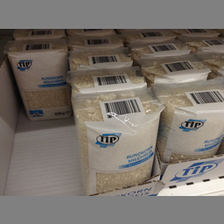rice: (72, 87, 161, 195), (151, 81, 224, 161), (4, 37, 71, 121)
